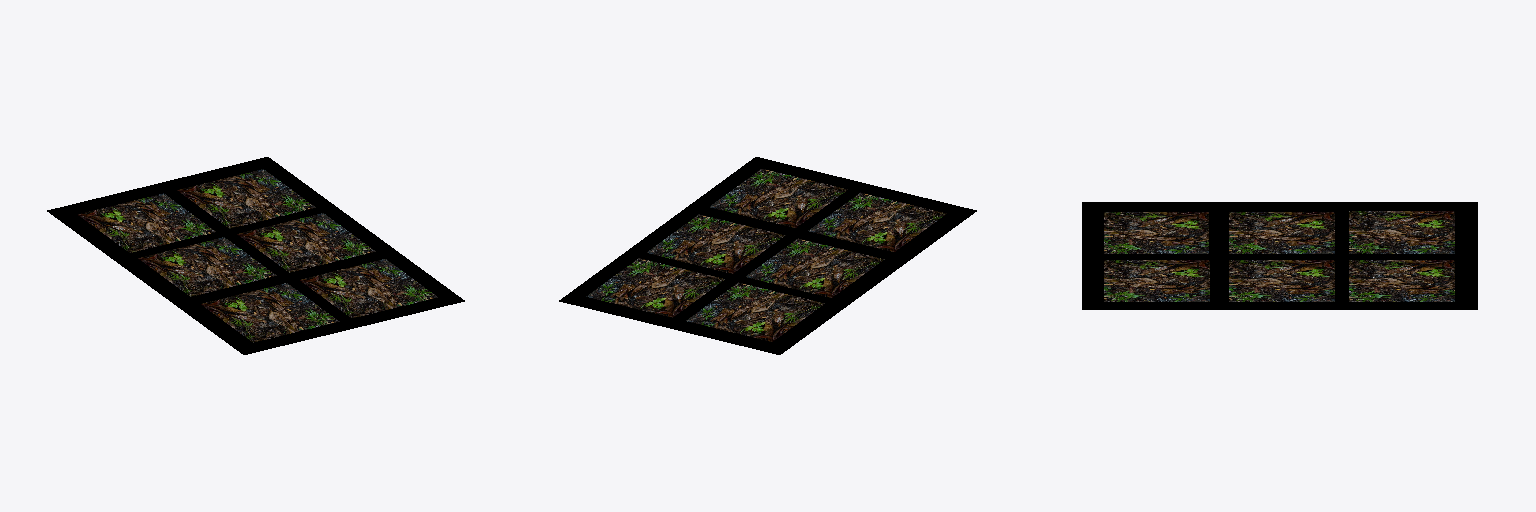
3 views of the same model, side by side, from view 1: azimuth 30°, elevation 25°; view 2: azimuth 150°, elevation 25°; view 3: azimuth 270°, elevation 25° (orthographic).
Visible parts, largest first — view 1: pPlane1, pPlane003, pPlane005, pPlane006, pPlane004, pPlane007, pPlane002; view 2: pPlane1, pPlane004, pPlane002, pPlane003, pPlane007, pPlane005, pPlane006; view 3: pPlane1, pPlane007, pPlane002, pPlane004, pPlane005, pPlane006, pPlane003.
Part boxes in pixels (bbox=[...]): pPlane1: bbox=[47, 157, 464, 354]; pPlane003: bbox=[201, 283, 339, 342]; pPlane005: bbox=[237, 213, 375, 272]; pPlane006: bbox=[177, 169, 315, 228]; pPlane004: bbox=[138, 237, 276, 296]; pPlane007: bbox=[77, 193, 215, 252]; pPlane002: bbox=[300, 259, 437, 317]; pPlane1: bbox=[559, 157, 976, 354]; pPlane004: bbox=[746, 238, 884, 297]; pPlane002: bbox=[710, 169, 847, 227]; pPlane003: bbox=[808, 192, 946, 251]; pPlane007: bbox=[686, 282, 824, 341]; pPlane005: bbox=[647, 214, 785, 273]; pPlane006: bbox=[586, 258, 724, 317]; pPlane1: bbox=[1082, 202, 1477, 309]; pPlane007: bbox=[1349, 211, 1454, 253]; pPlane002: bbox=[1104, 260, 1209, 301]; pPlane004: bbox=[1229, 212, 1334, 253]; pPlane005: bbox=[1229, 260, 1334, 301]; pPlane006: bbox=[1349, 260, 1454, 301]; pPlane003: bbox=[1104, 212, 1208, 253].
Size of the model in its own units: 3062 by 0.4067 by 4726.
2 materials, 1 textured.